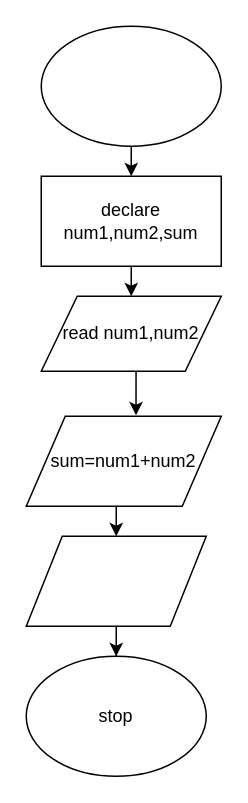
The diagram is 248 pixels wide and 803 high, and some of its shapes have lost their labels. The centre of each missing label's shape, as x and y in pixels:
print sum: the point at 115,580
start: the point at 130,85
